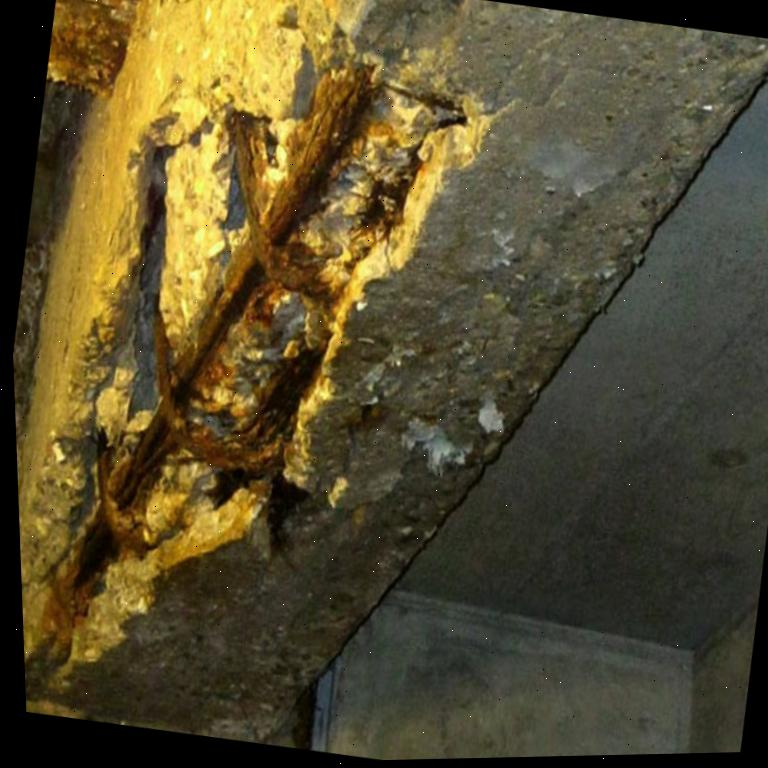exposed_rebar: (49, 65, 373, 635)
spalling: (17, 0, 488, 719)
